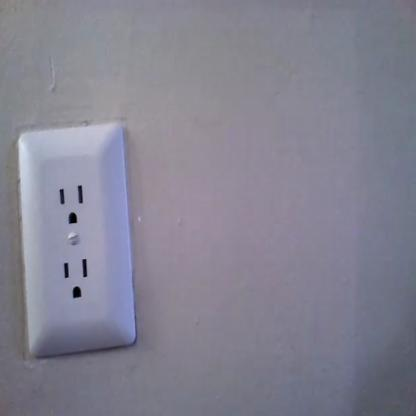OUTLET: (17, 125, 135, 353)
